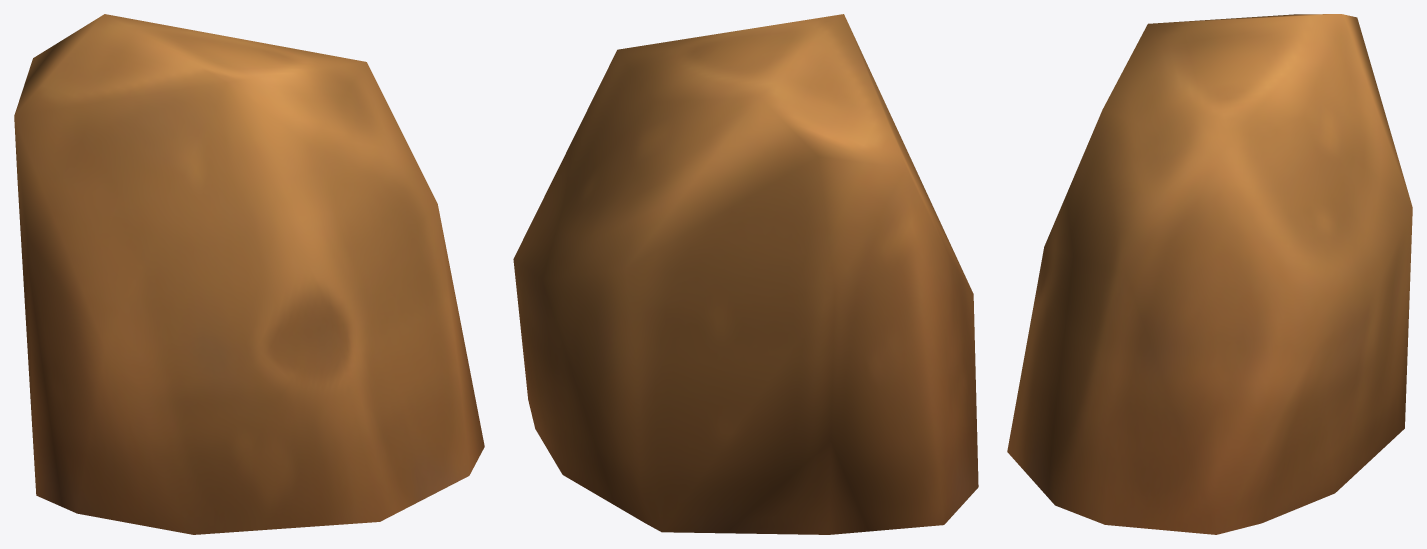
File: Rock_Medium_02.fbx
The picture shows the model from 3 angles, left to right: view 1: azimuth 30°, elevation 25°; view 2: azimuth 150°, elevation 25°; view 3: azimuth 270°, elevation 25°; orthographic projection. The views are drawn at different scales.
Visible parts, largest first — view 1: Rock_Medium_02; view 2: Rock_Medium_02; view 3: Rock_Medium_02.
Boxes of the visible parts, bbox=[...] form: Rock_Medium_02: bbox=[14, 14, 484, 534]; Rock_Medium_02: bbox=[513, 14, 978, 534]; Rock_Medium_02: bbox=[1007, 14, 1412, 534].
Size of the model in its own units: 15.59 by 14.96 by 13.82.
